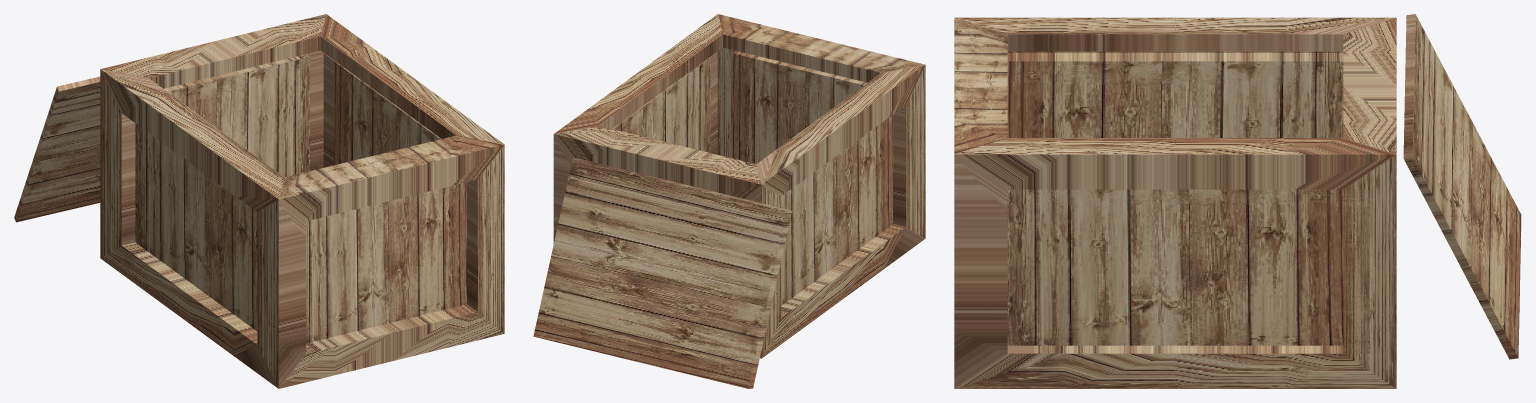
Rendered from Caisse1.FBX.
The picture shows the model from 3 angles, left to right: view 1: azimuth 30°, elevation 25°; view 2: azimuth 150°, elevation 25°; view 3: azimuth 270°, elevation 25°; orthographic projection. The views are drawn at different scales.
Visible parts, largest first — view 1: Boîte001; view 2: Boîte001; view 3: Boîte001.
Part boxes in pixels (x1=…): Boîte001: x1=14, y1=14, x2=504, y2=388; Boîte001: x1=533, y1=14, x2=925, y2=388; Boîte001: x1=954, y1=14, x2=1521, y2=388.
Bounding box in the file's own units: 22.95 × 15.75 × 34.51.
